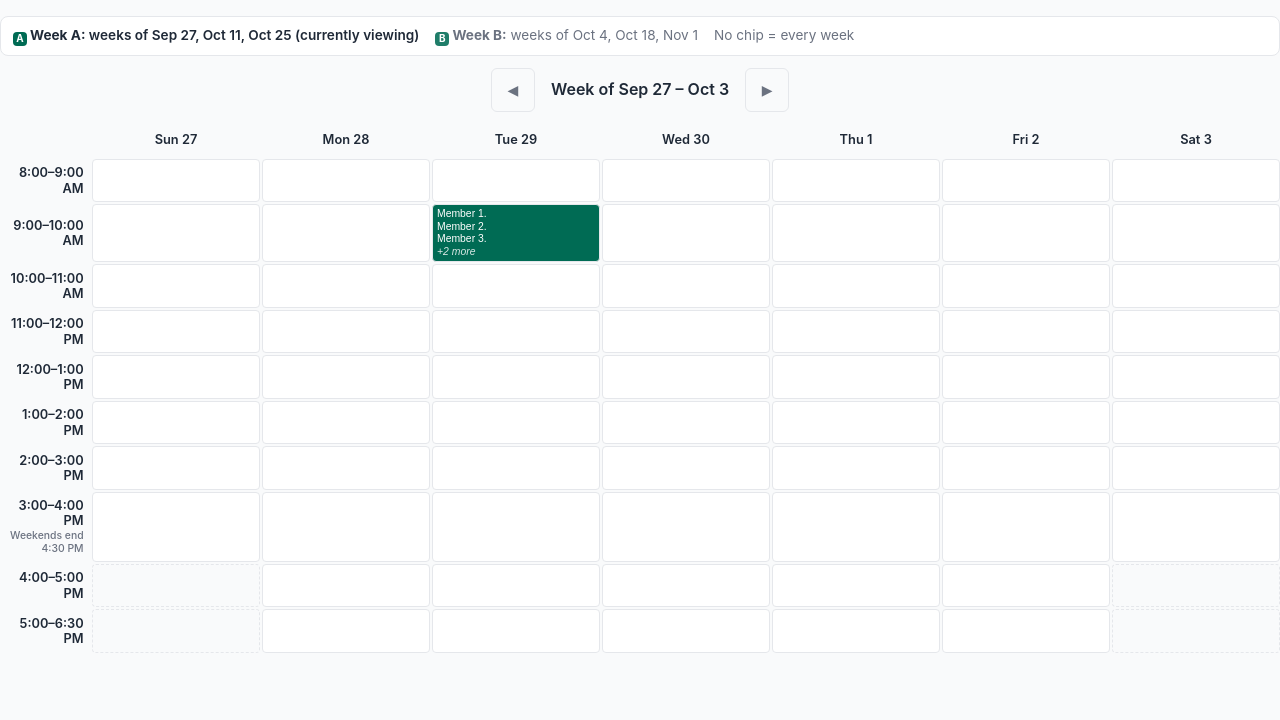
it: ScheduleOverview › caps the names shown directly in a cell and collapses the rest into a "+N more" indicator
The image size is (1280, 720).
Expected: the text "Member 1." is shown, x1=437 y1=208 x2=487 y2=220
Expected: the text "Member 2." is shown, x1=437 y1=221 x2=487 y2=232
Click the cell "Member 1. Member 2. Member 3. +2 more".
click(516, 233)  # box x1=432 y1=204 x2=600 y2=262
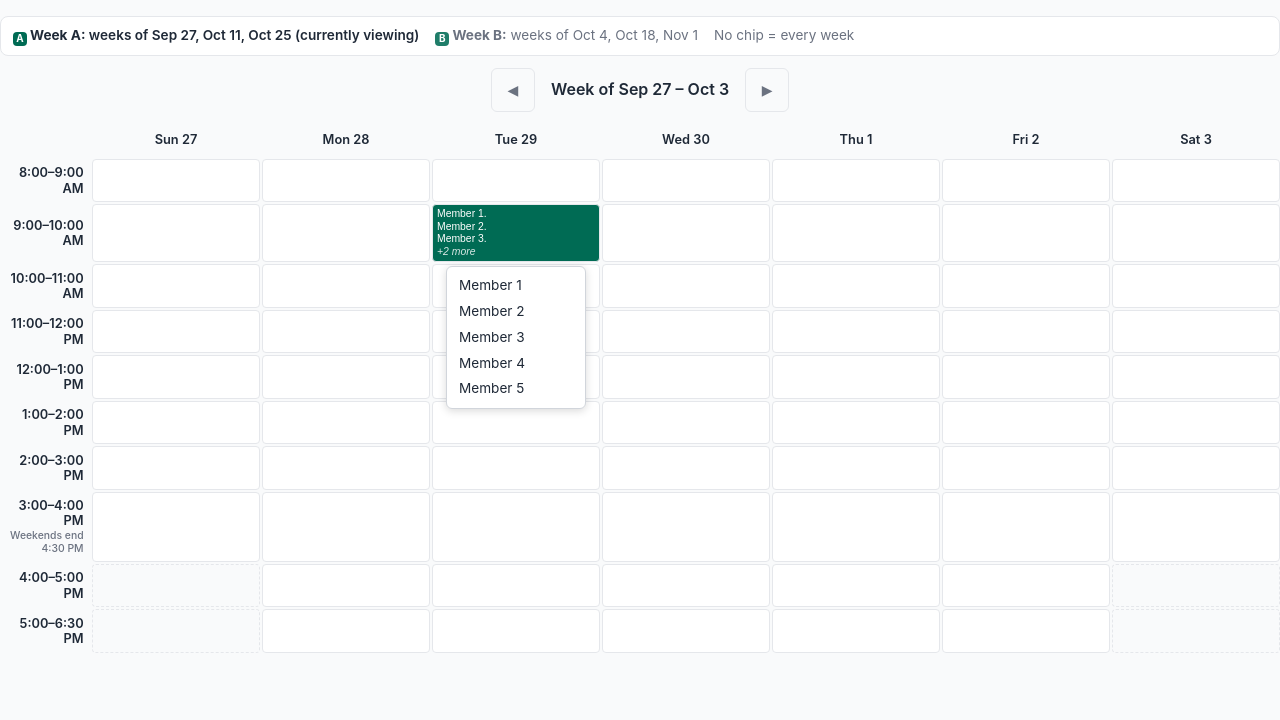
Expected: the number of list items is 5, x1=459 y1=277 x2=522 y2=293; x1=459 y1=303 x2=525 y2=319; x1=459 y1=329 x2=525 y2=345; x1=459 y1=355 x2=525 y2=371; x1=459 y1=380 x2=524 y2=396
Expected: the text "Member 4" is shown, x1=459 y1=353 x2=525 y2=374
